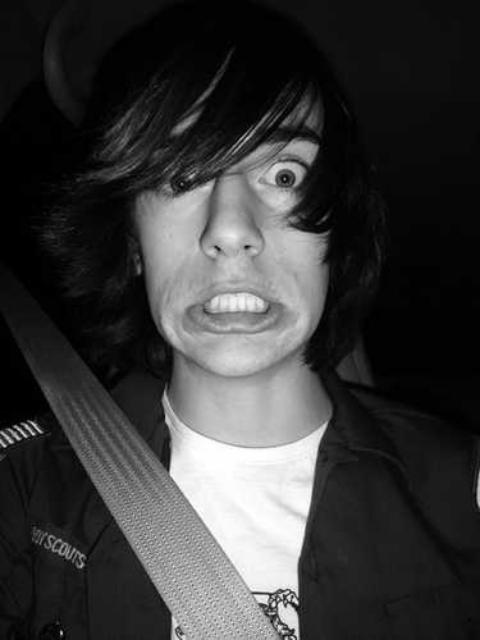Seatbelt: (0, 322, 286, 640)
